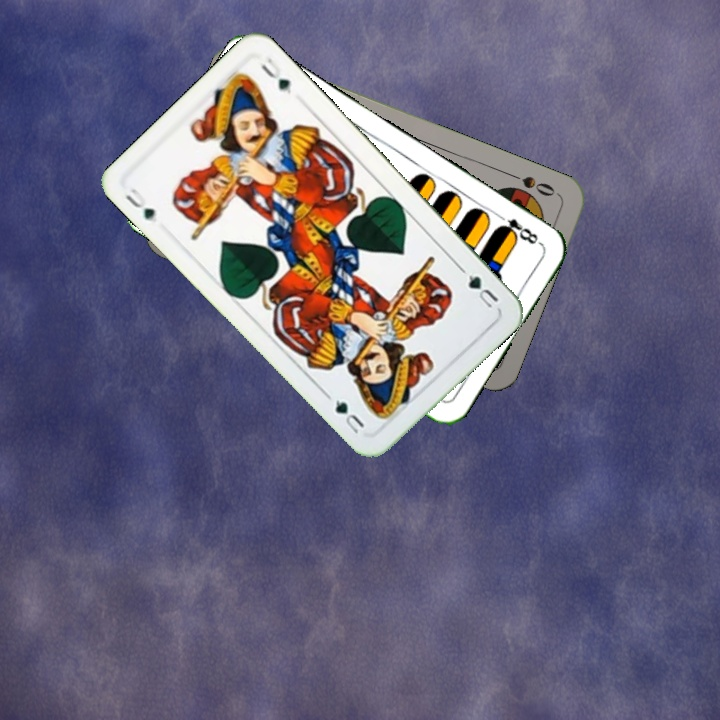E8: (492, 209, 544, 248)
GU: (464, 270, 501, 313), (121, 184, 158, 224)
SO: (505, 169, 558, 199)
